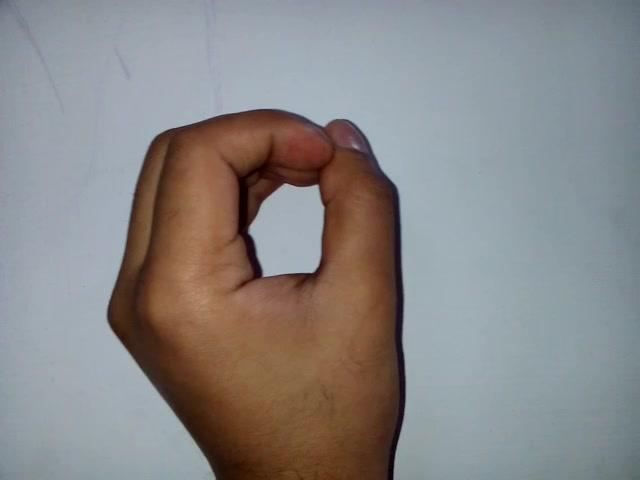O: (92, 115, 473, 480)
